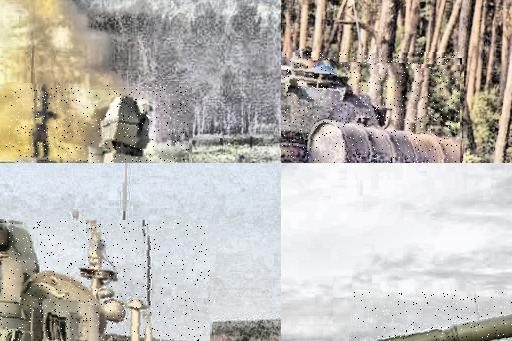tanks: (1, 224, 154, 341), (282, 66, 460, 164), (7, 86, 149, 164), (385, 315, 512, 341)
